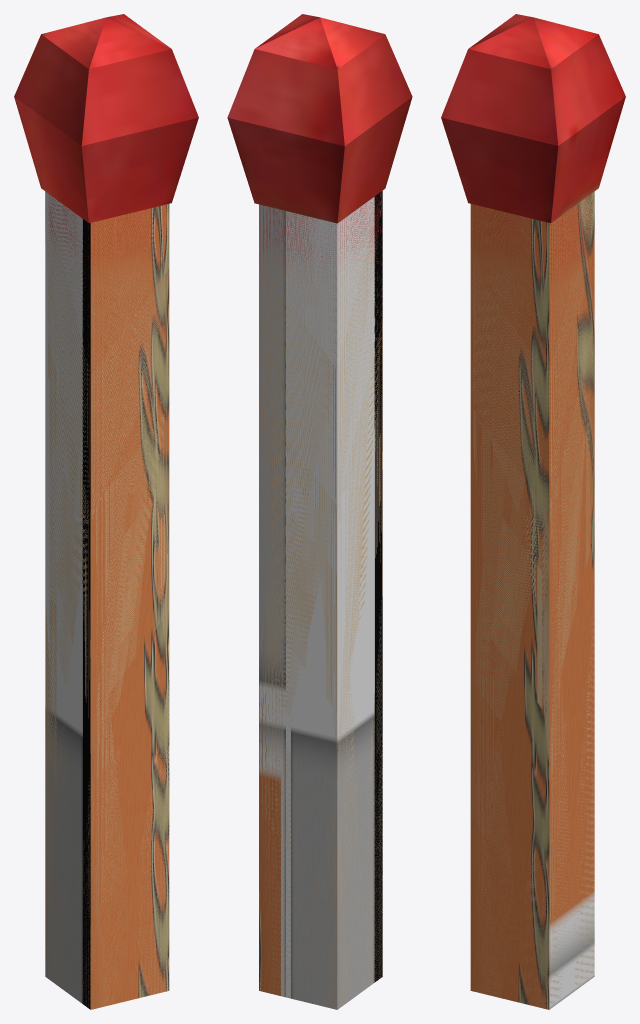
The model's file is match.glb.
The picture shows the model from 3 angles, left to right: view 1: azimuth 30°, elevation 25°; view 2: azimuth 150°, elevation 25°; view 3: azimuth 330°, elevation 25°; orthographic projection.
Visible parts, largest first — view 1: match; view 2: match; view 3: match.
Part boxes in pixels (x1,y1,x2,y2): match: (14, 14, 198, 1009); match: (227, 14, 412, 1009); match: (441, 14, 625, 1009).
Bounding box in the file's own units: 0.00529 × 0.0416 × 0.00529.
2 materials, 2 textured.
